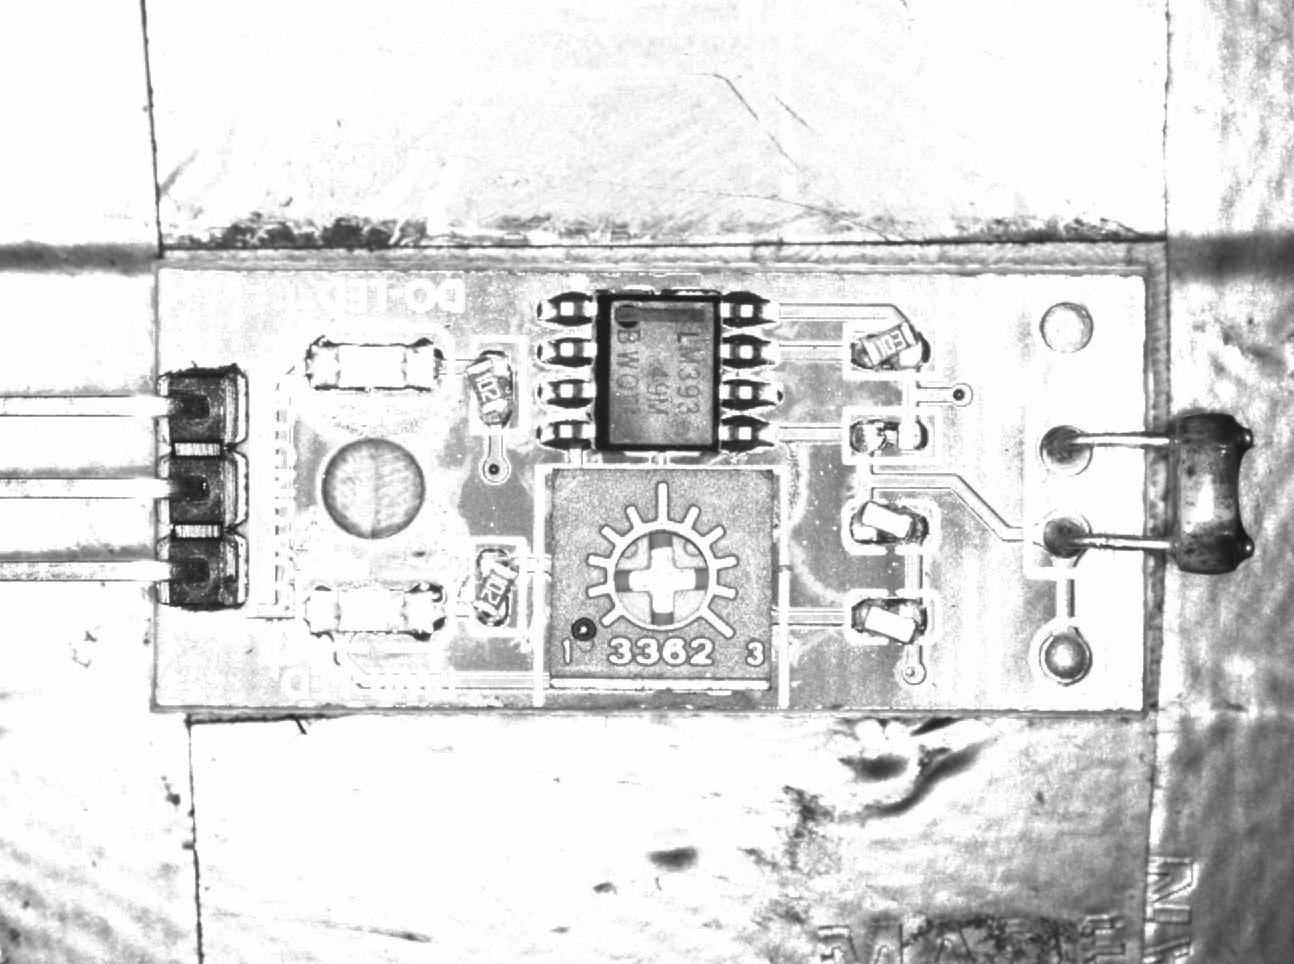bridge: (843, 410, 942, 463)
lifted: (467, 338, 524, 435), (469, 537, 525, 635), (846, 591, 946, 646), (844, 499, 938, 556), (850, 321, 939, 373)
